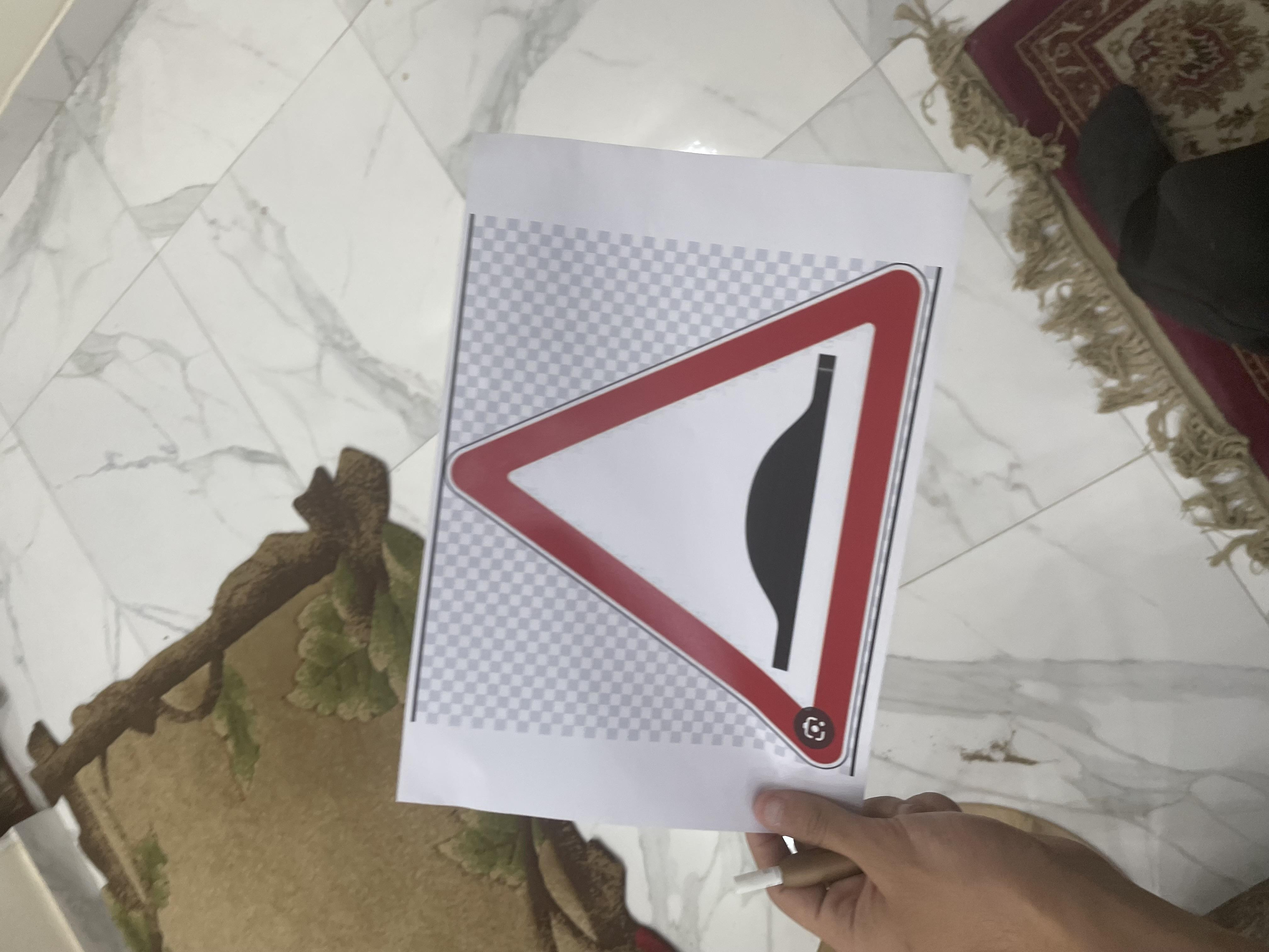Hump: (234, 338, 932, 689)
